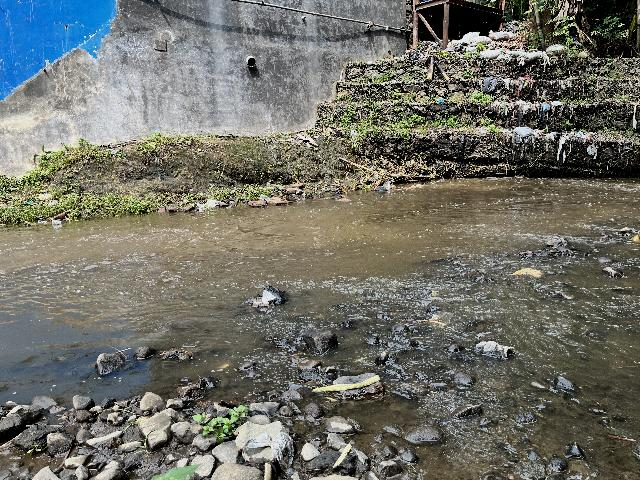Sampah Anorganik: (247, 294, 276, 307)
Sampah Organik: (310, 379, 384, 391), (515, 264, 544, 280), (159, 349, 193, 361), (417, 315, 446, 328), (218, 363, 232, 370), (629, 233, 640, 241)
